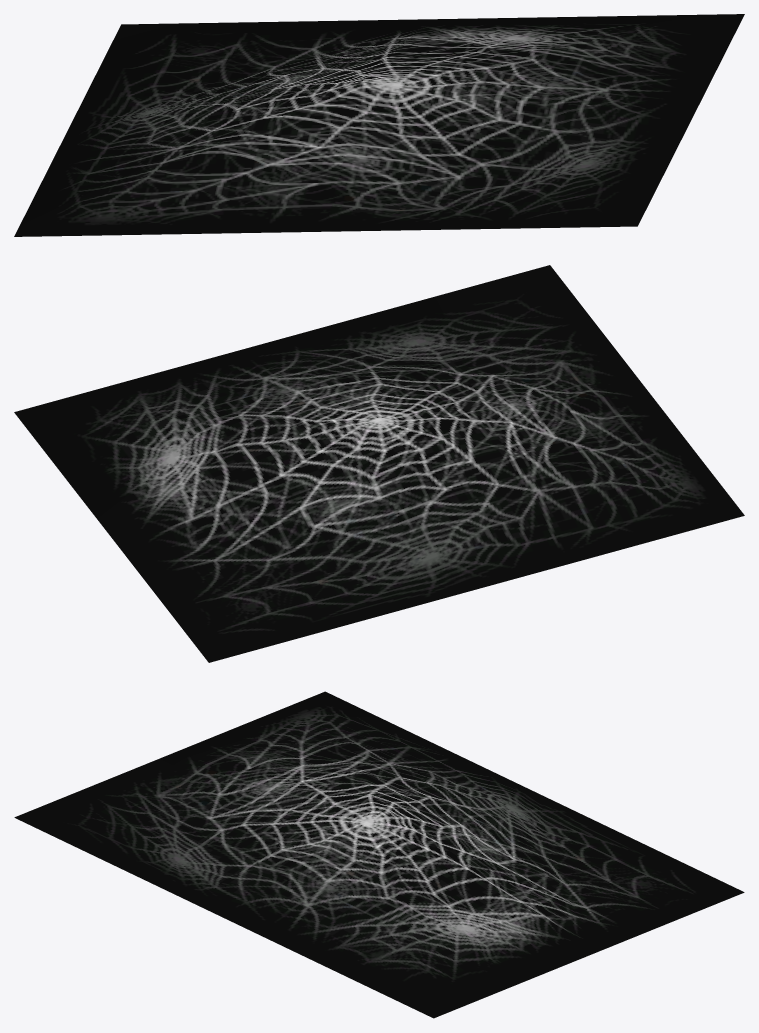
Rendered from MIRKWOOD_PLANE47.fbx.
3 views of the same model, one above another, from view 1: azimuth 30°, elevation 25°; view 2: azimuth 150°, elevation 25°; view 3: azimuth 270°, elevation 25° (orthographic). The views are drawn at different scales.
Visible parts, largest first — view 1: MIRKWOOD_PLANE47; view 2: MIRKWOOD_PLANE47; view 3: MIRKWOOD_PLANE47.
Part boxes in pixels (bbox=[...]): MIRKWOOD_PLANE47: bbox=[14, 14, 744, 236]; MIRKWOOD_PLANE47: bbox=[14, 265, 744, 662]; MIRKWOOD_PLANE47: bbox=[14, 691, 744, 1018].
Size of the model in its own units: 156978 by 22813 by 156715.
1 material, 1 textured.
